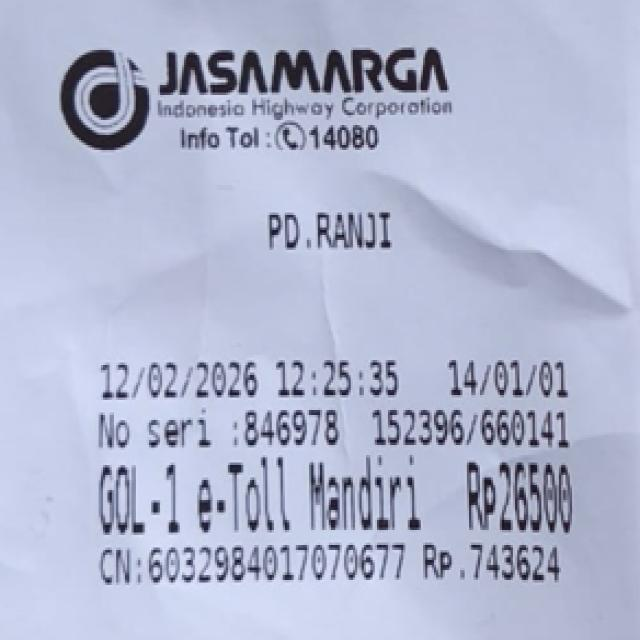date: (87, 354, 424, 401)
store: (149, 38, 475, 119)
total: (453, 457, 594, 543)
